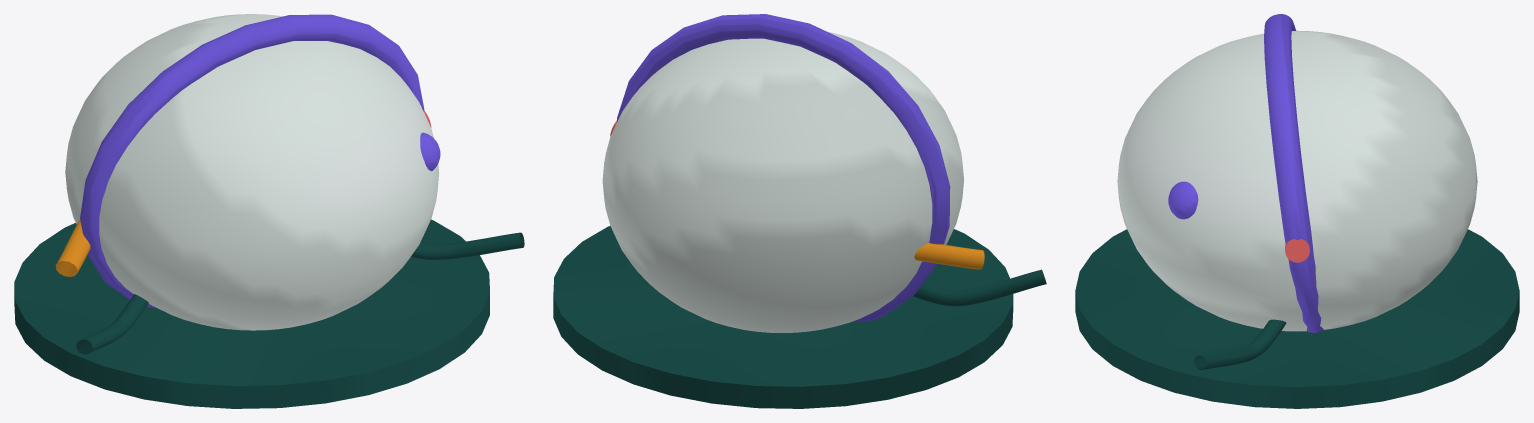
Rendered from 0194_人体图鉴_中性粒细胞.glb.
3 views of the same model, side by side, from view 1: azimuth 30°, elevation 25°; view 2: azimuth 150°, elevation 25°; view 3: azimuth 270°, elevation 25° (orthographic). The views are drawn at different scales.
Parts seen in each view (by area): view 1: card_0194; view 2: card_0194; view 3: card_0194.
Boxes of the visible parts, box(x1,y1,x2,y2) form: card_0194: box(14, 14, 524, 408); card_0194: box(553, 14, 1046, 408); card_0194: box(1075, 14, 1519, 408).
Bounding box in the file's own units: 1.58 × 1 × 1.42.
